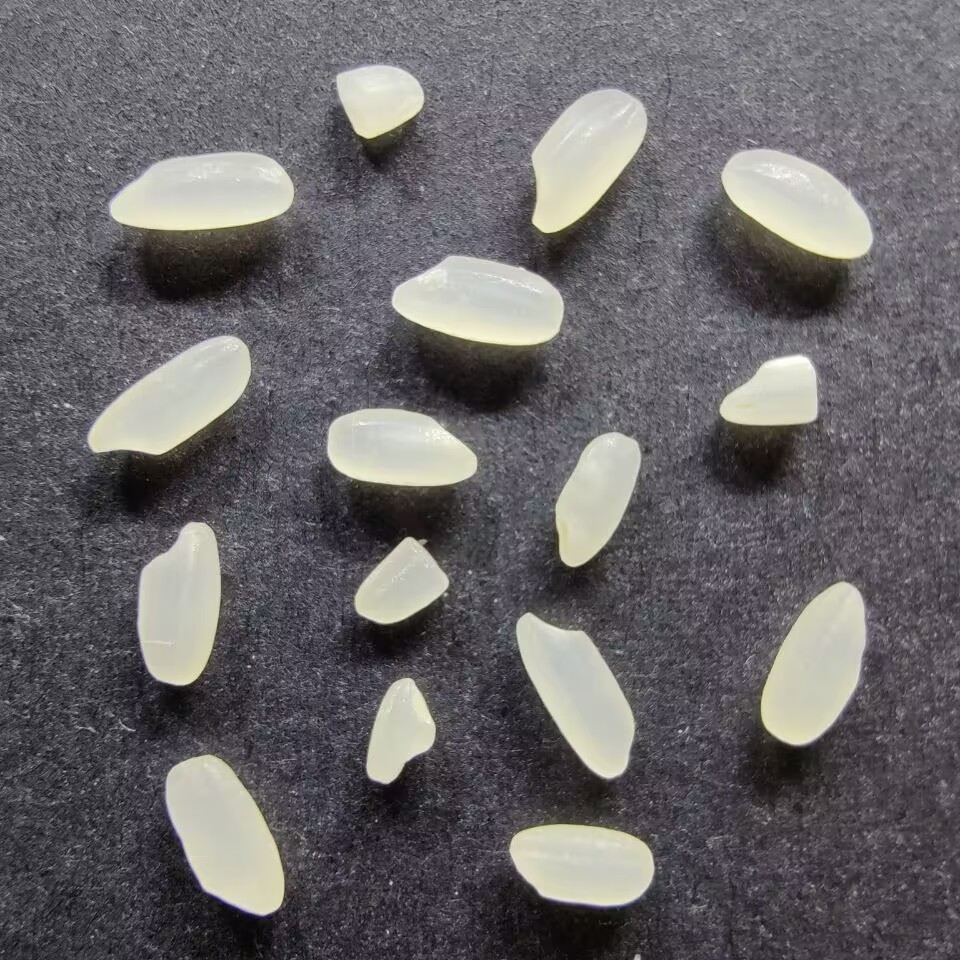broken: (352, 534, 450, 627), (363, 676, 437, 785), (718, 352, 819, 428), (333, 63, 425, 141)
rice: (514, 609, 638, 781), (84, 333, 253, 456), (162, 754, 285, 917), (759, 579, 869, 747), (530, 88, 649, 236), (719, 149, 876, 259), (390, 253, 564, 346), (106, 151, 295, 232), (134, 520, 222, 685), (506, 823, 656, 908), (325, 405, 479, 487), (551, 430, 642, 567)
